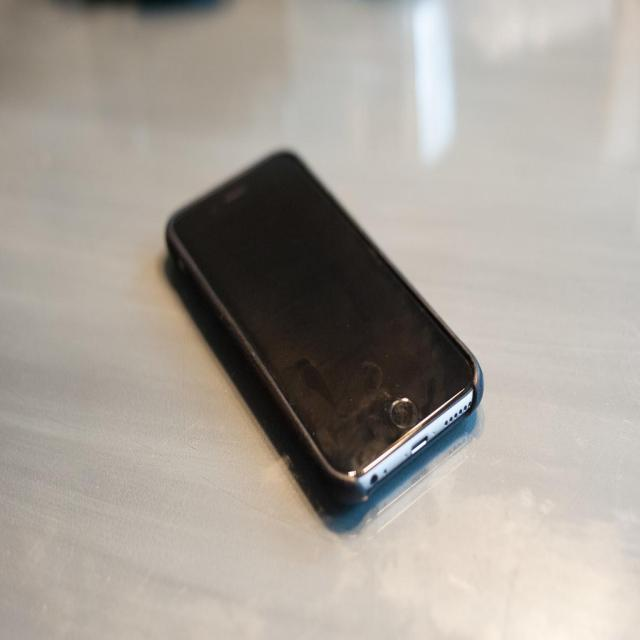Phone: (164, 145, 484, 517)
